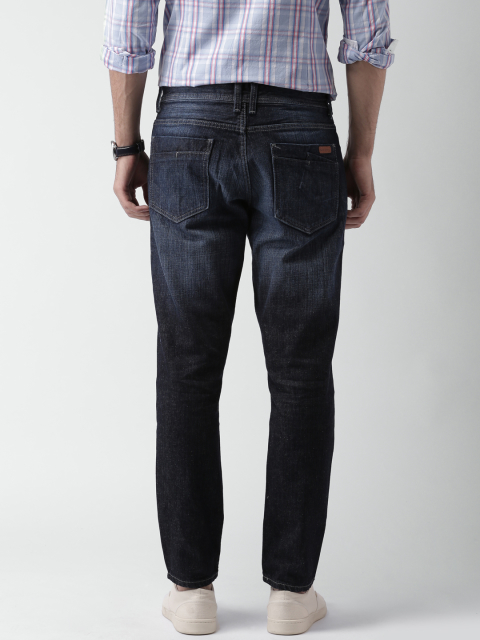jeans: (143, 90, 348, 591)
shirt: (99, 1, 398, 89)
